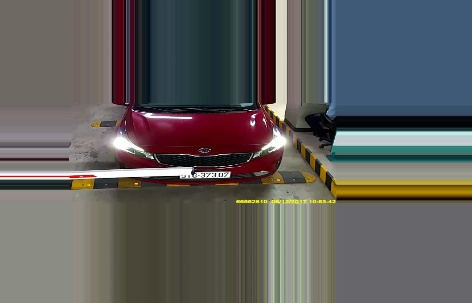plate: (179, 168, 230, 182)
